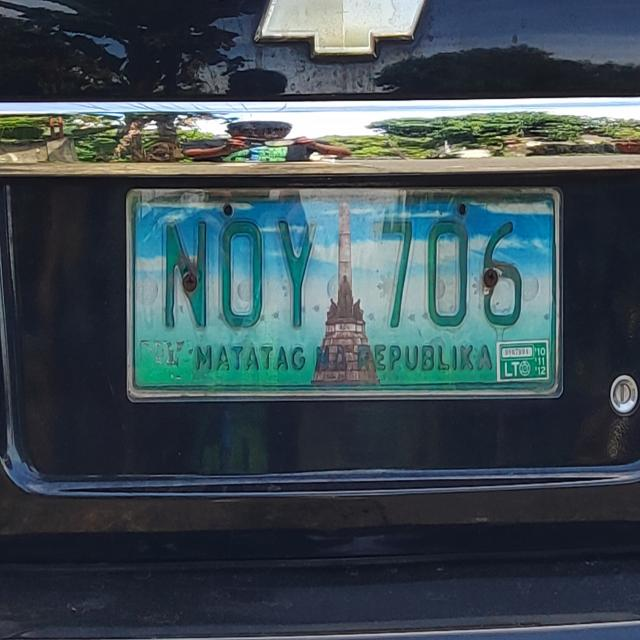plate: (122, 182, 567, 406)
